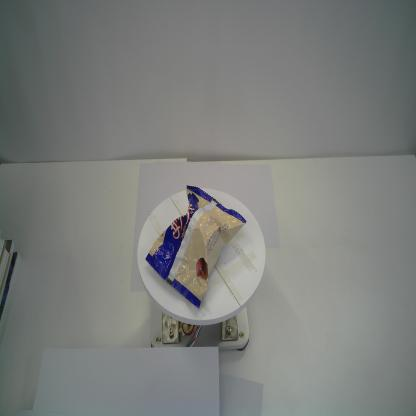Dessert: (144, 183, 248, 310)
